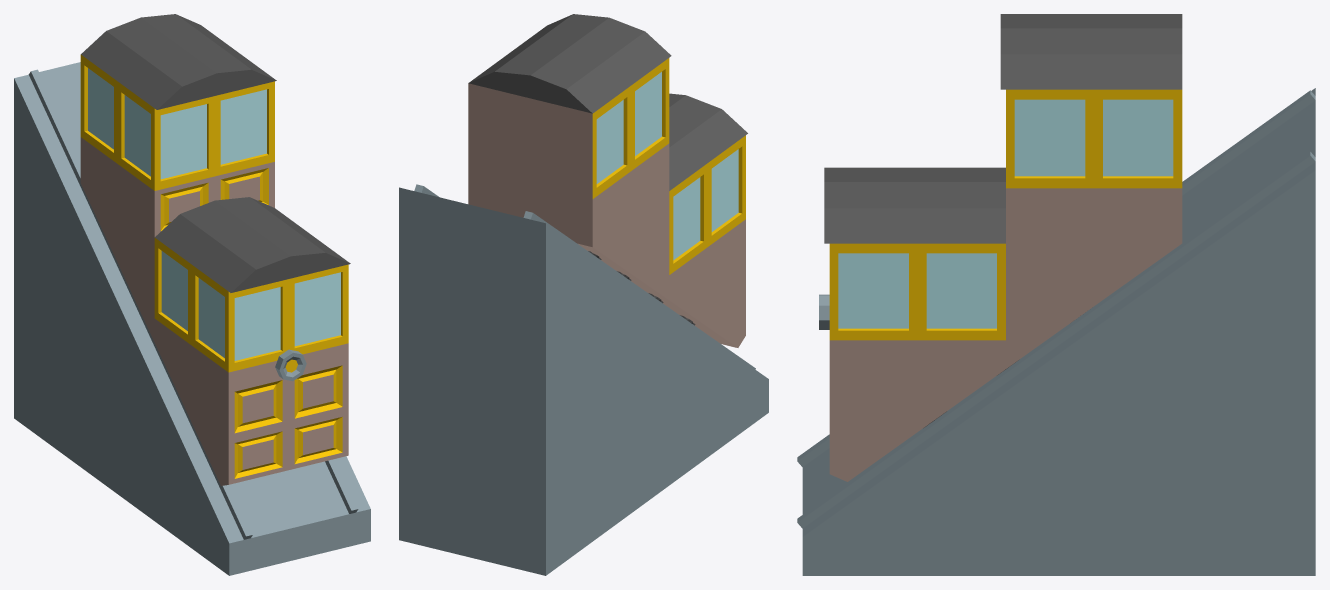
File: Funicular_01.gltf
3 views of the same model, side by side, from view 1: azimuth 30°, elevation 25°; view 2: azimuth 150°, elevation 25°; view 3: azimuth 270°, elevation 25° (orthographic). The views are drawn at different scales.
Visible parts, largest first — view 1: node-0; view 2: node-0; view 3: node-0.
Boxes of the visible parts, x1=… form: node-0: x1=14, y1=14, x2=370, y2=575; node-0: x1=399, y1=14, x2=768, y2=575; node-0: x1=797, y1=14, x2=1315, y2=575.
Bounding box in the file's own units: 3.8 × 10.89 × 10.1.
